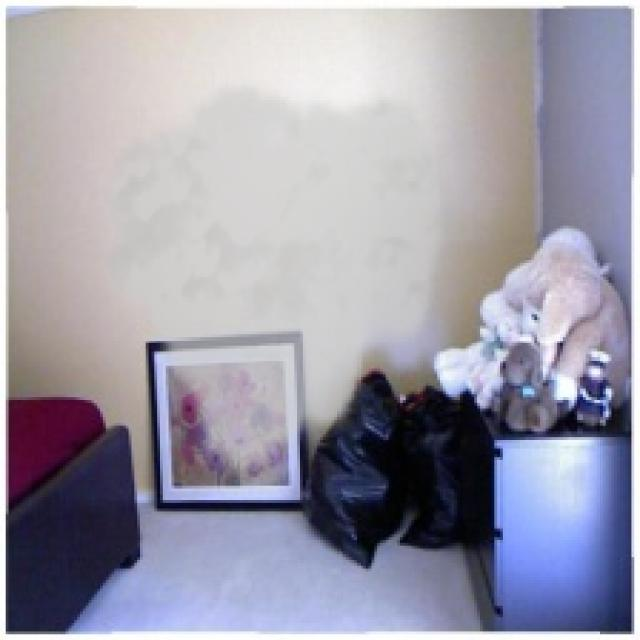Smoke: (89, 77, 452, 489)
